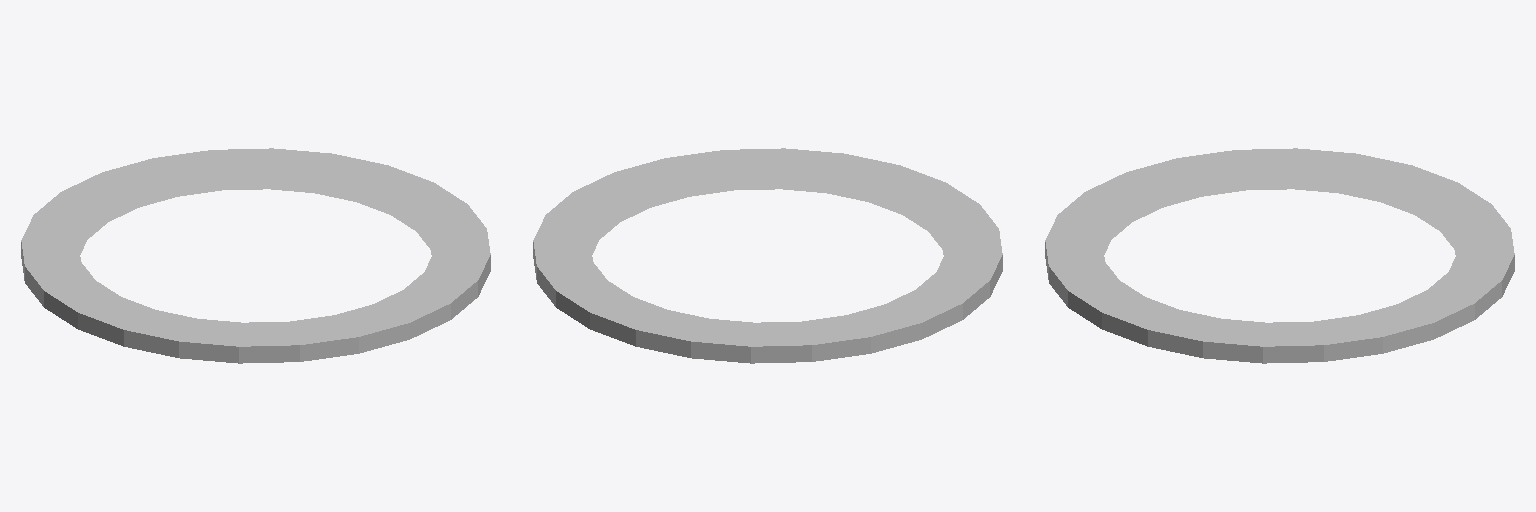
The model's file is original-32.obj.
3 renders of one model, left to right at view 1: azimuth 30°, elevation 25°; view 2: azimuth 150°, elevation 25°; view 3: azimuth 270°, elevation 25°, orthographic.
Visible parts, largest first — view 1: #ID155; view 2: #ID155; view 3: #ID155.
Boxes of the visible parts, <box> form: #ID155: <box>21,148,490,363</box>; #ID155: <box>533,148,1002,363</box>; #ID155: <box>1045,148,1514,363</box>.
Bounding box in the file's own units: 0.1093 × 0.0043 × 0.1093.